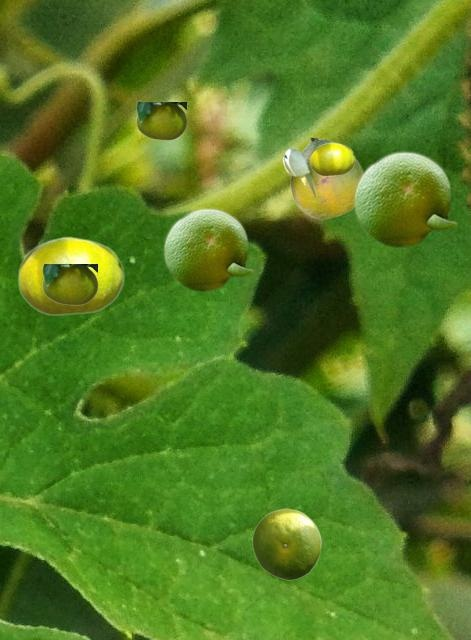dalandan: (352, 149, 458, 247), (17, 236, 123, 315), (162, 206, 254, 291), (282, 138, 362, 218), (252, 508, 320, 579), (42, 264, 96, 304), (136, 102, 185, 139), (309, 142, 354, 175)
